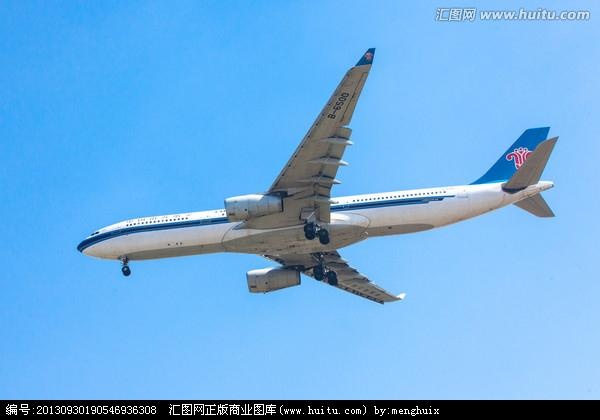airplane: (75, 45, 584, 311)
